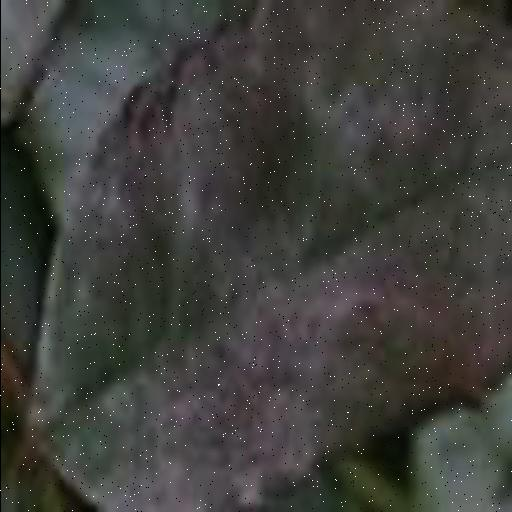powdery_mildew: (30, 0, 512, 512)
